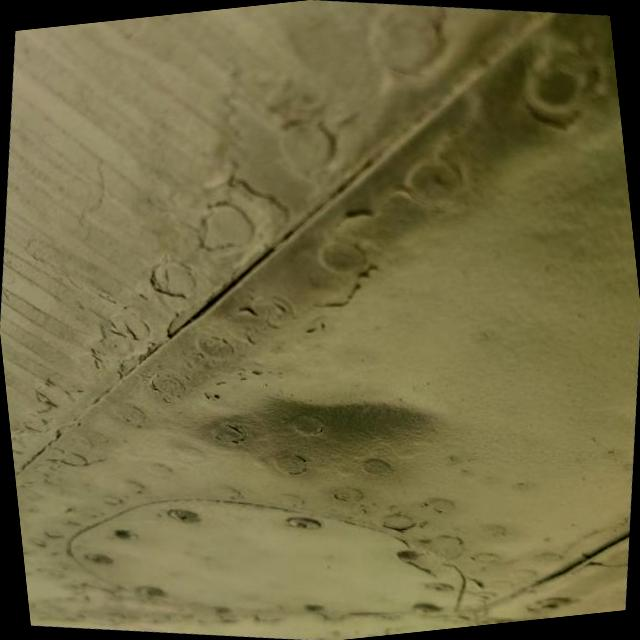dent: (193, 374, 457, 502)
